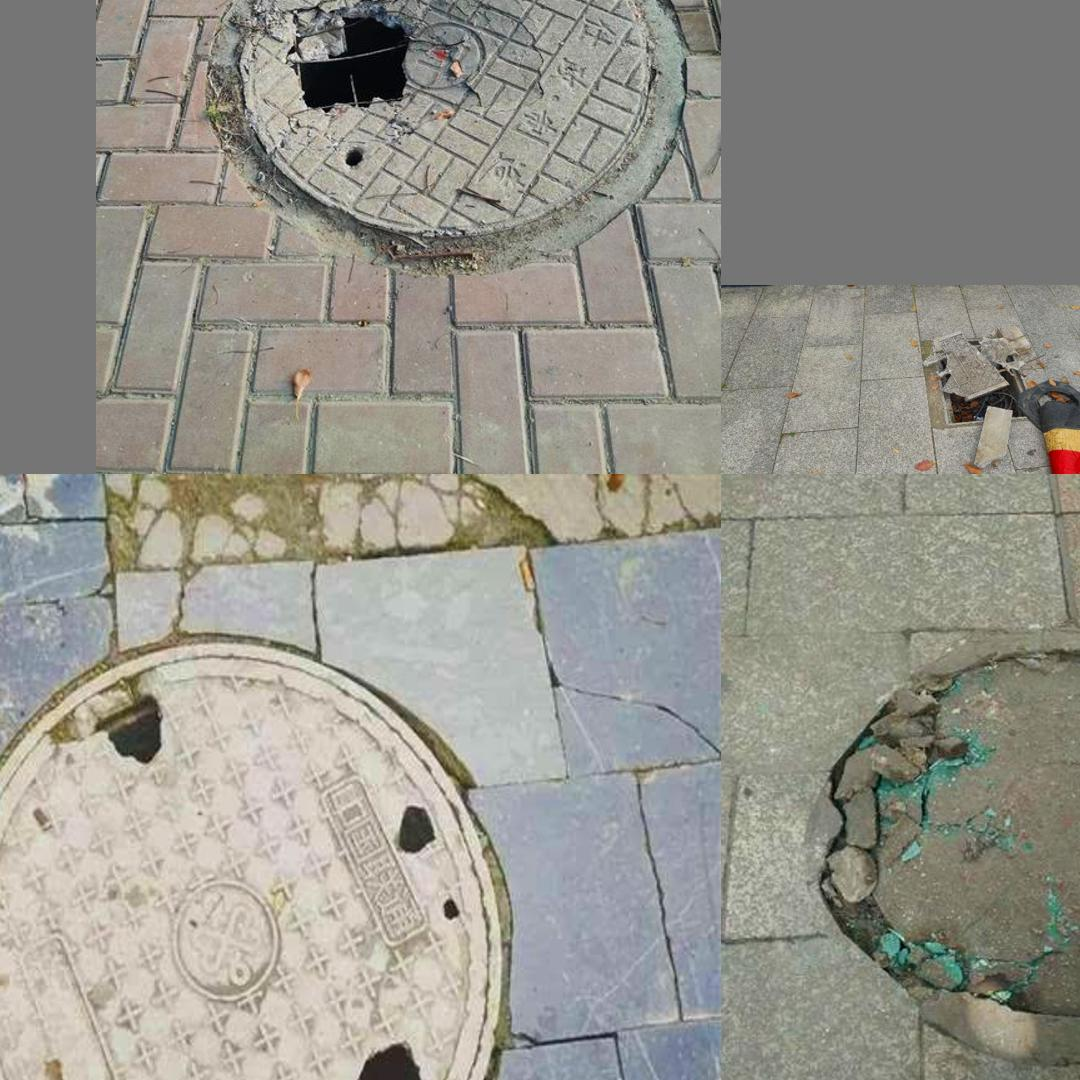broke: (0, 642, 503, 1080), (191, 0, 694, 277), (792, 625, 1080, 1067), (933, 324, 1033, 425)
